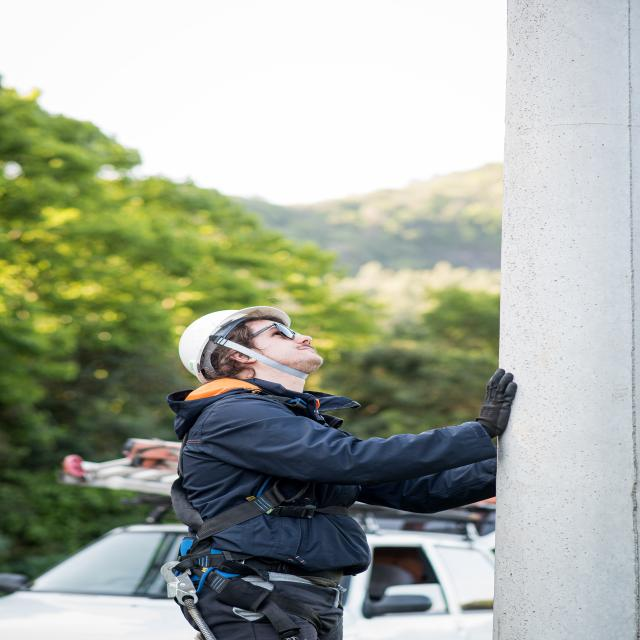capacete: (176, 303, 294, 385)
luva: (468, 365, 520, 443)
